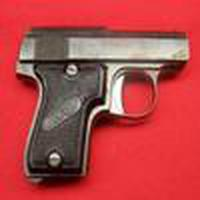gun: (14, 29, 189, 177)
